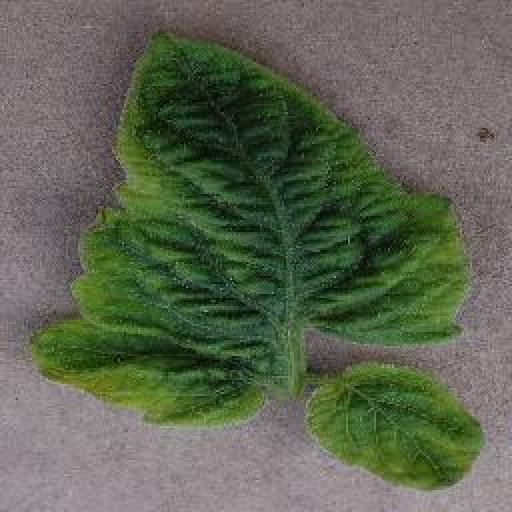Yellow Leaf Curl Virus: (30, 29, 475, 432), (303, 358, 486, 490)
